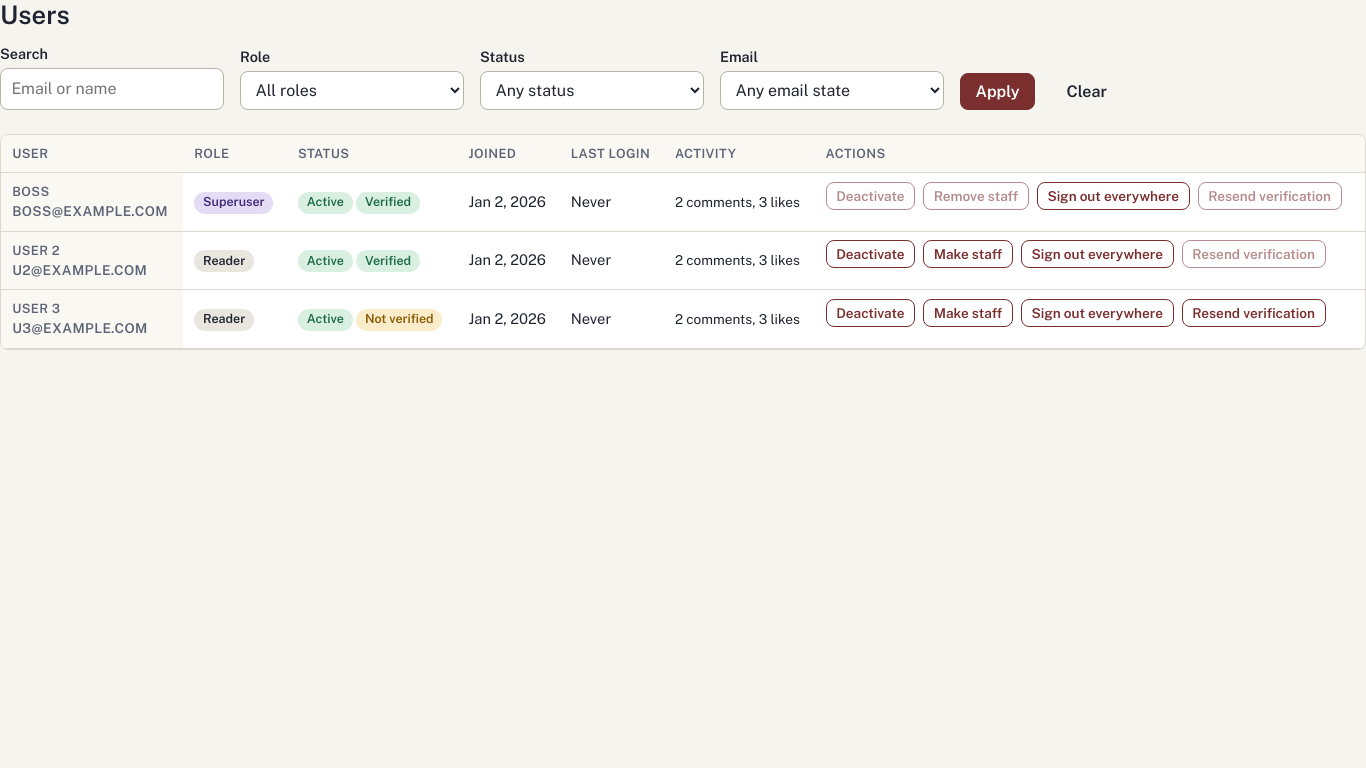
UsersPage › cancel does nothing
What coordinates should you click on to do the following:
click the button "Make staff" in the row of "User 2"
I would click on:
 (968, 254)
Its box is [923,240,1013,268].
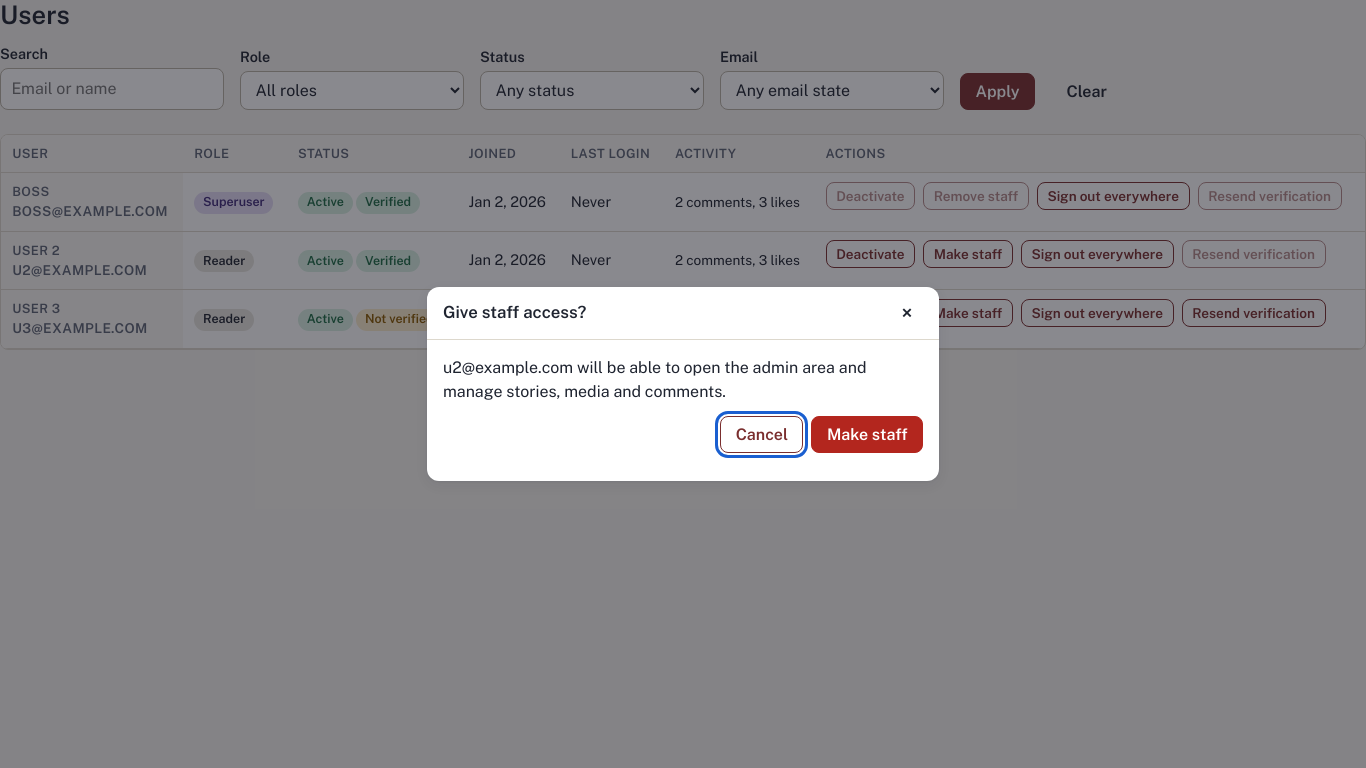
What coordinates should you click on to do the following:
click the button "Cancel"
I would click on:
 (762, 434)
Its box is [720,416,803,453].
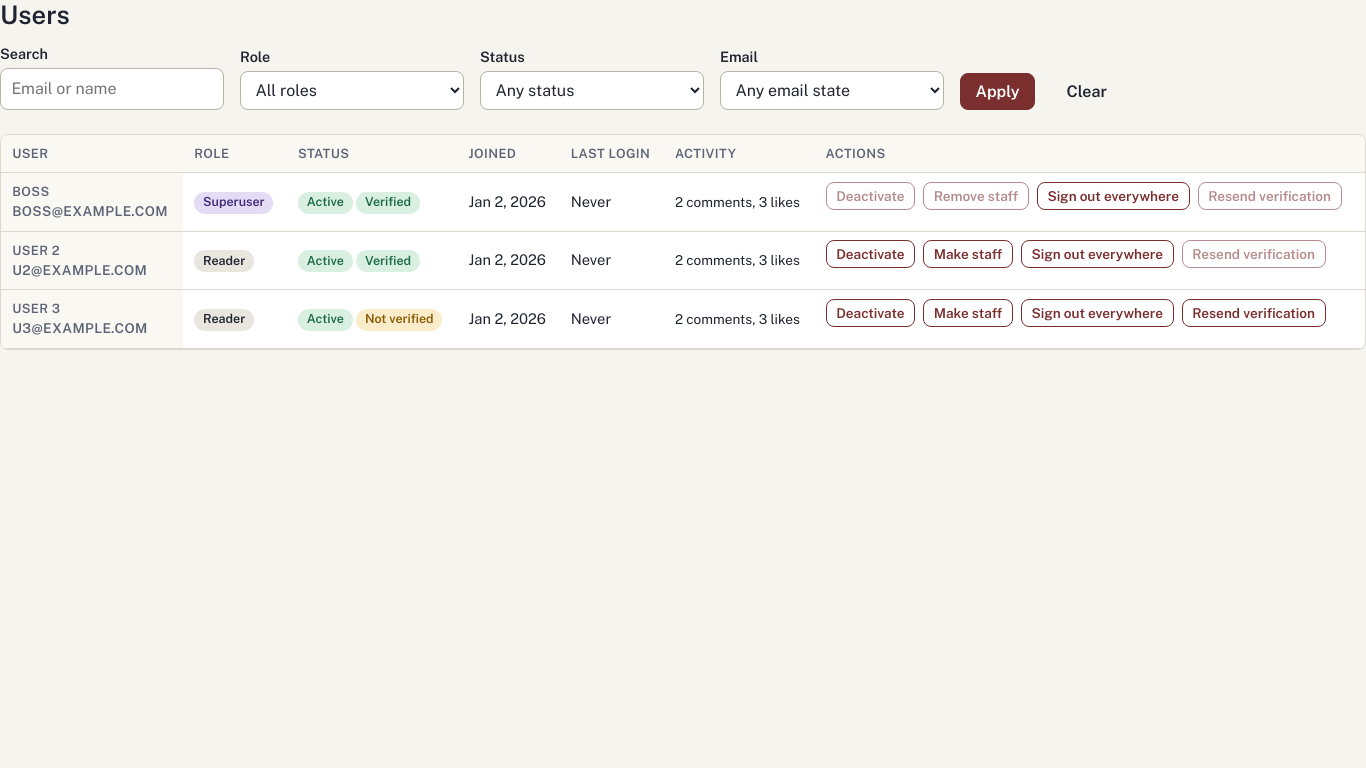
Expected: the dialog is gone
